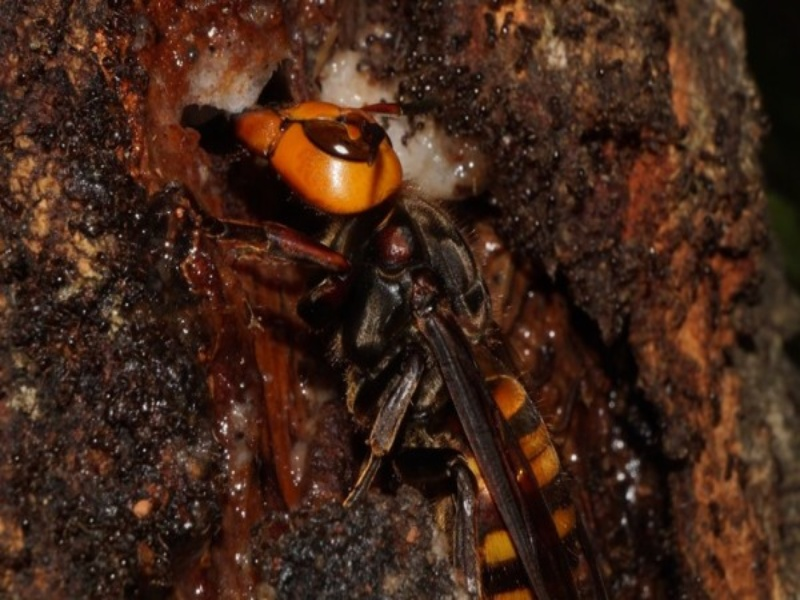asian_giant_hornet: (217, 92, 608, 600)
